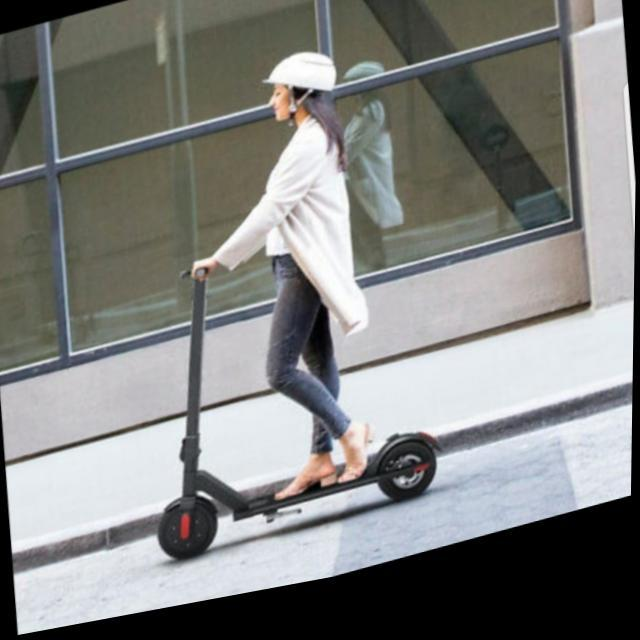Helmet: (256, 45, 346, 126)
